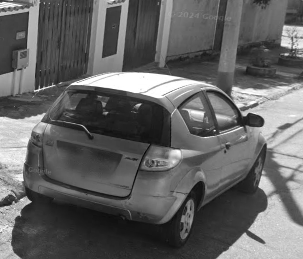car: (23, 71, 268, 247)
